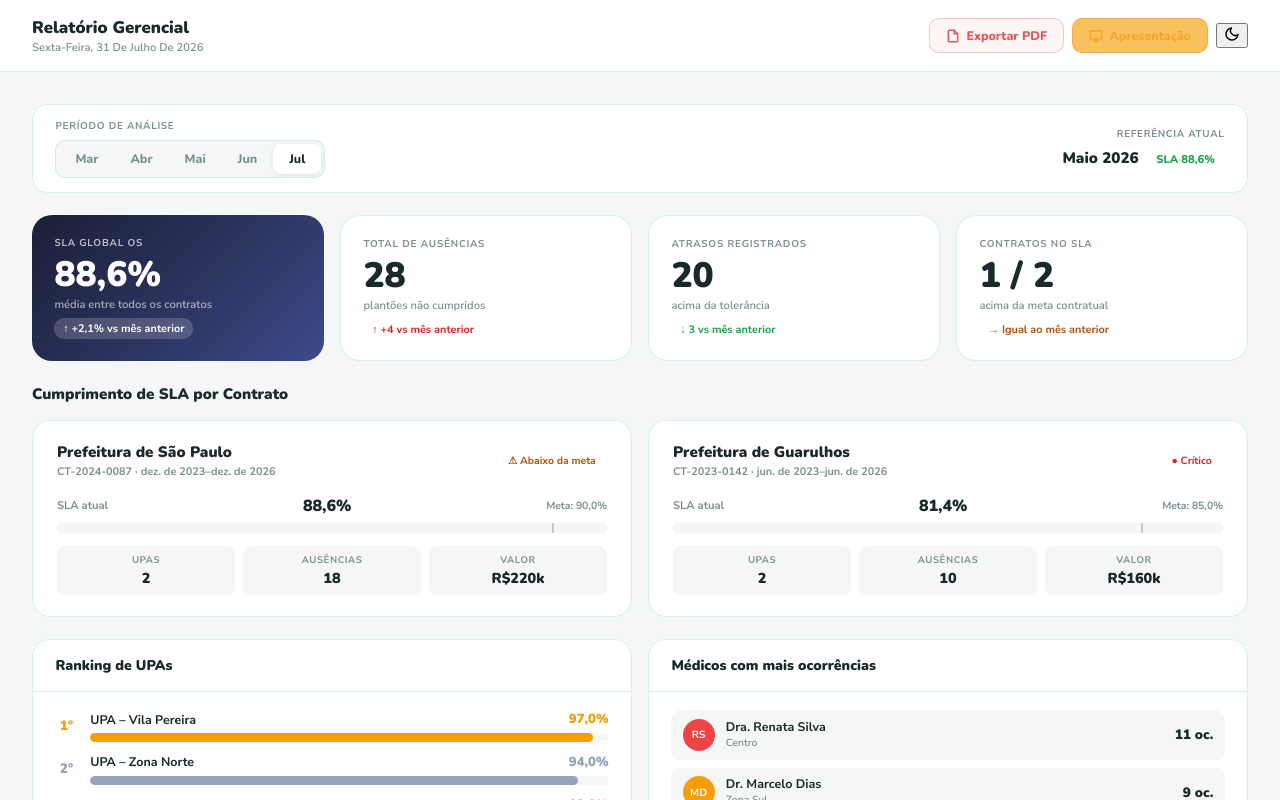
Scenario: <AdminGerencial /> › baixa o PDF e mostra toast de sucesso ao clicar em Exportar PDF
Check: the element with class "ger-kpi-hero" is shown, box [32,215,1248,361]
Click the button "Exportar PDF": x=996, y=36 [929,18,1064,53]
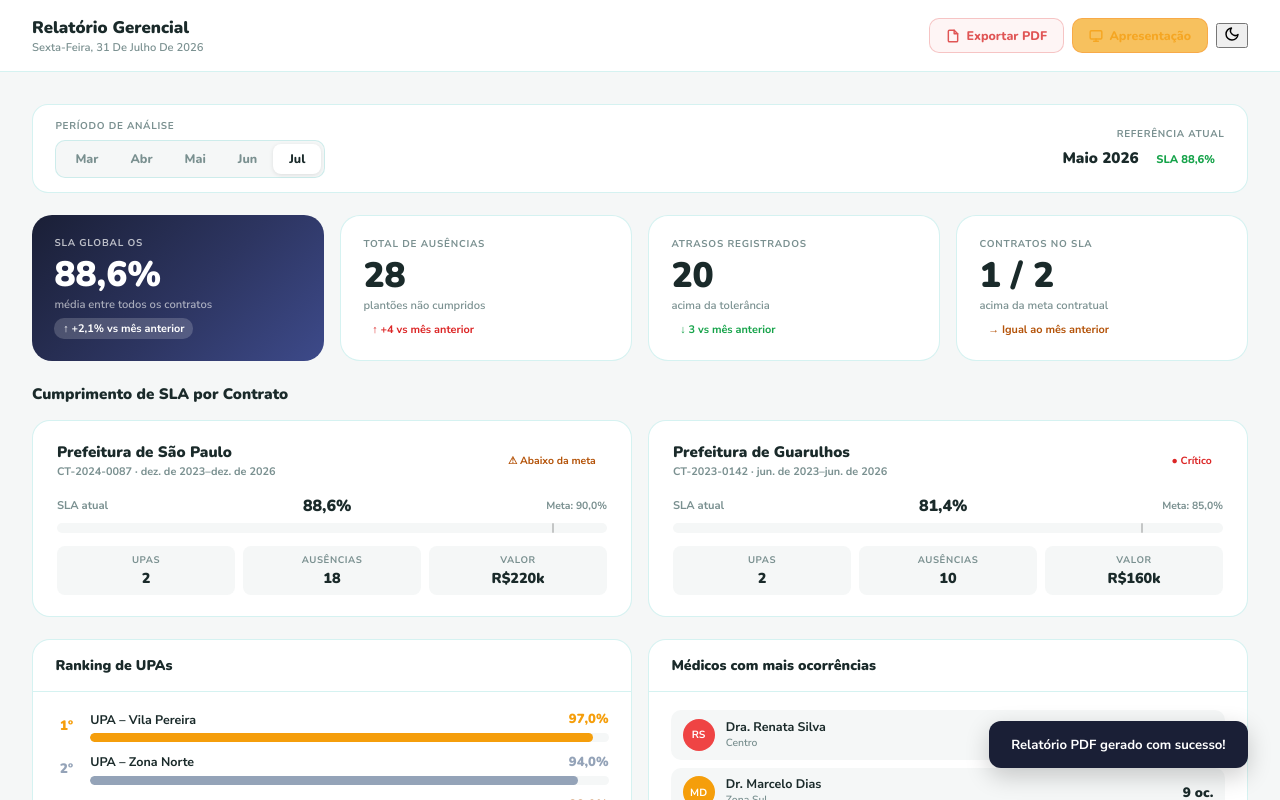
Check: the text "Relatório PDF gerado com sucesso!" is shown, box [1011,736,1226,754]
